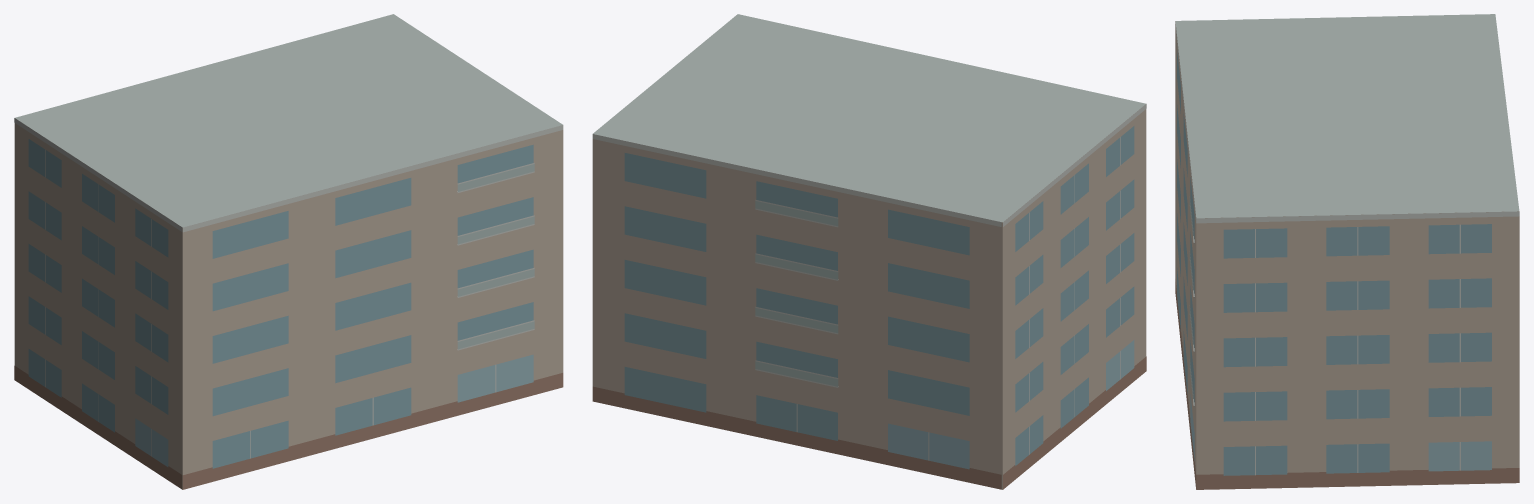
The model's file is survey-upis-32696718.glb.
The picture shows the model from 3 angles, left to right: view 1: azimuth 30°, elevation 25°; view 2: azimuth 150°, elevation 25°; view 3: azimuth 270°, elevation 25°; orthographic projection. The views are drawn at different scales.
Visible parts, largest first — view 1: survey-upis-32696718.tmp; view 2: survey-upis-32696718.tmp; view 3: survey-upis-32696718.tmp.
Part boxes in pixels (<box>): survey-upis-32696718.tmp: <box>14,14,563,489</box>; survey-upis-32696718.tmp: <box>592,14,1146,489</box>; survey-upis-32696718.tmp: <box>1175,14,1519,489</box>.
Size of the model in its own units: 21.14 by 13.1 by 15.05.
